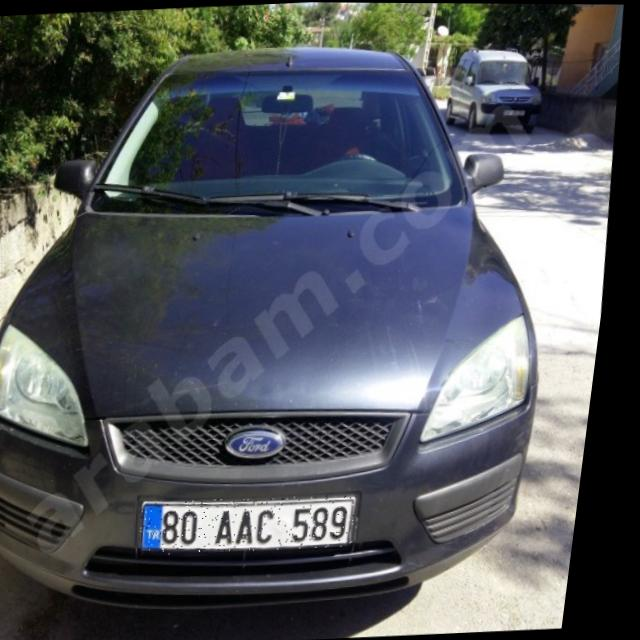license_plate: (151, 491, 371, 556)
